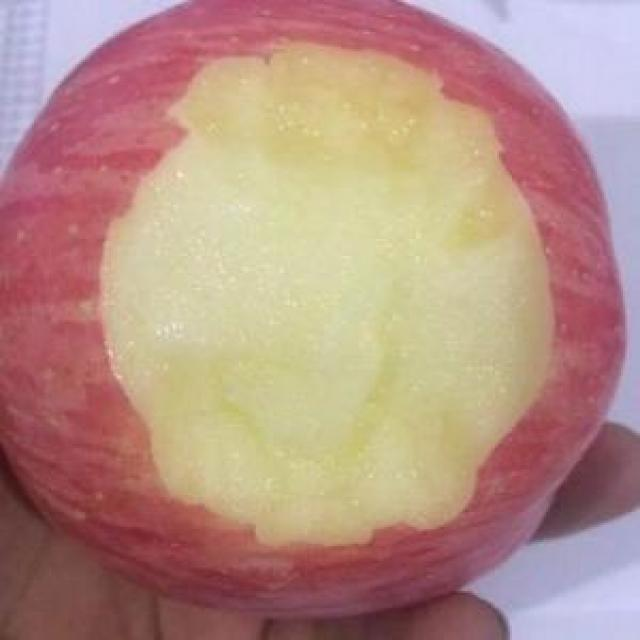Apple: (0, 0, 633, 627)
